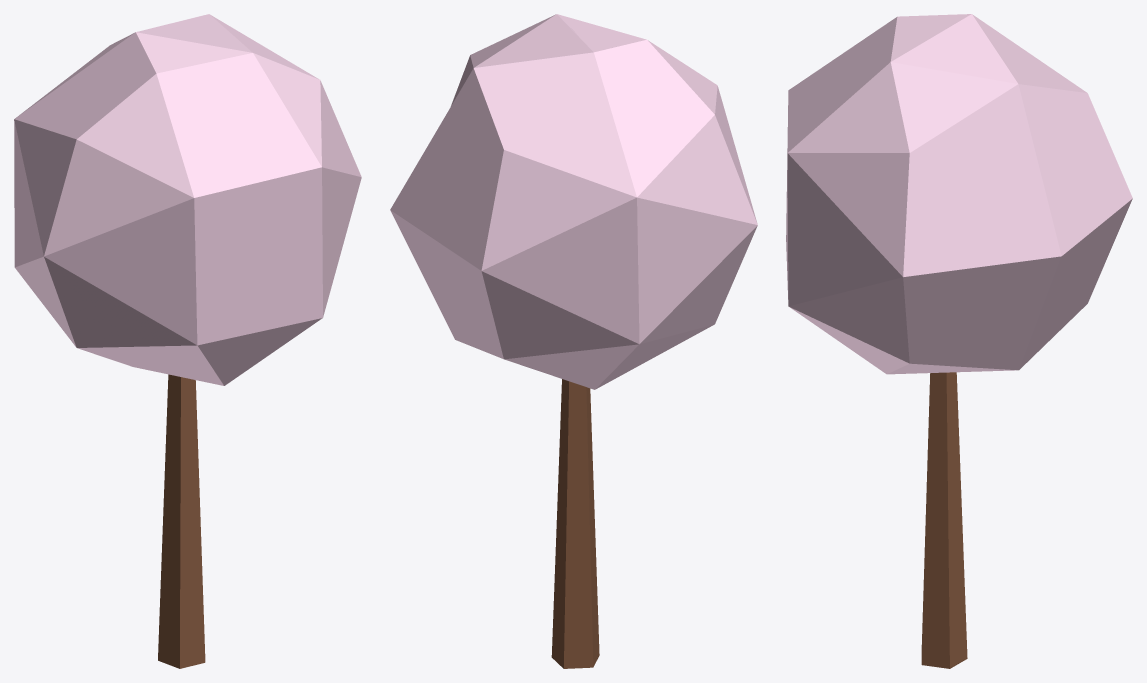
The model's file is nomalTree.fbx.
3 views of the same model, side by side, from view 1: azimuth 30°, elevation 25°; view 2: azimuth 150°, elevation 25°; view 3: azimuth 270°, elevation 25° (orthographic).
Visible parts, largest first — view 1: Sphere, Cylinder; view 2: Sphere, Cylinder; view 3: Sphere, Cylinder.
Boxes of the visible parts, bbox=[...] form: Sphere: bbox=[14, 14, 361, 385]; Cylinder: bbox=[158, 374, 205, 668]; Sphere: bbox=[390, 14, 757, 389]; Cylinder: bbox=[551, 379, 599, 668]; Sphere: bbox=[786, 14, 1132, 374]; Cylinder: bbox=[921, 372, 967, 668].
Size of the model in its own units: 1467 by 2733 by 1366.
Materials: 2 (2 with a texture image).
